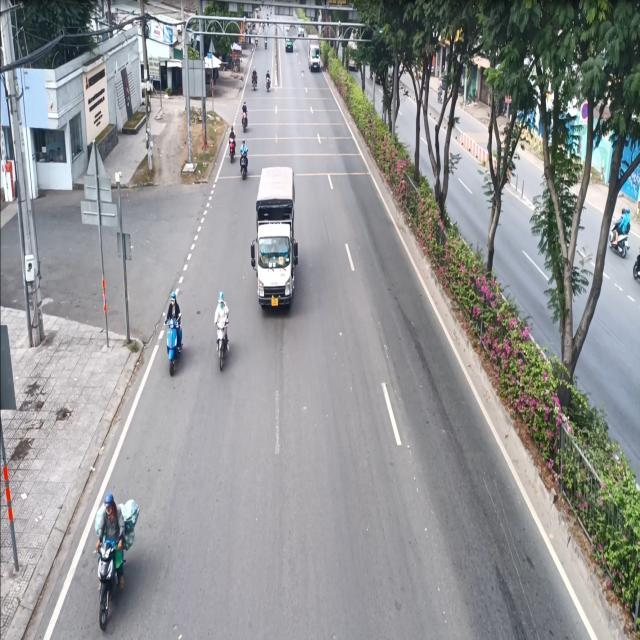motor: (91, 484, 140, 632), (164, 286, 185, 380), (213, 286, 233, 380), (225, 124, 238, 160), (238, 142, 250, 180), (240, 96, 250, 132)
truck: (249, 162, 298, 313)
